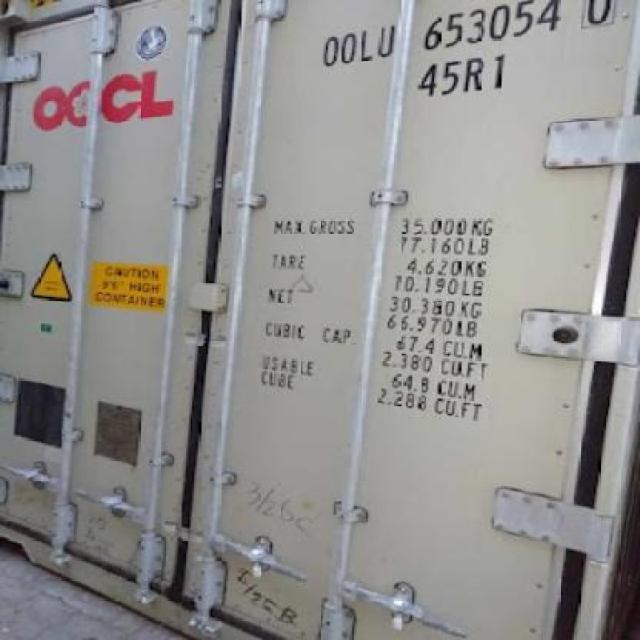ISO: (424, 58, 509, 95)
container_number: (321, 0, 620, 51)
